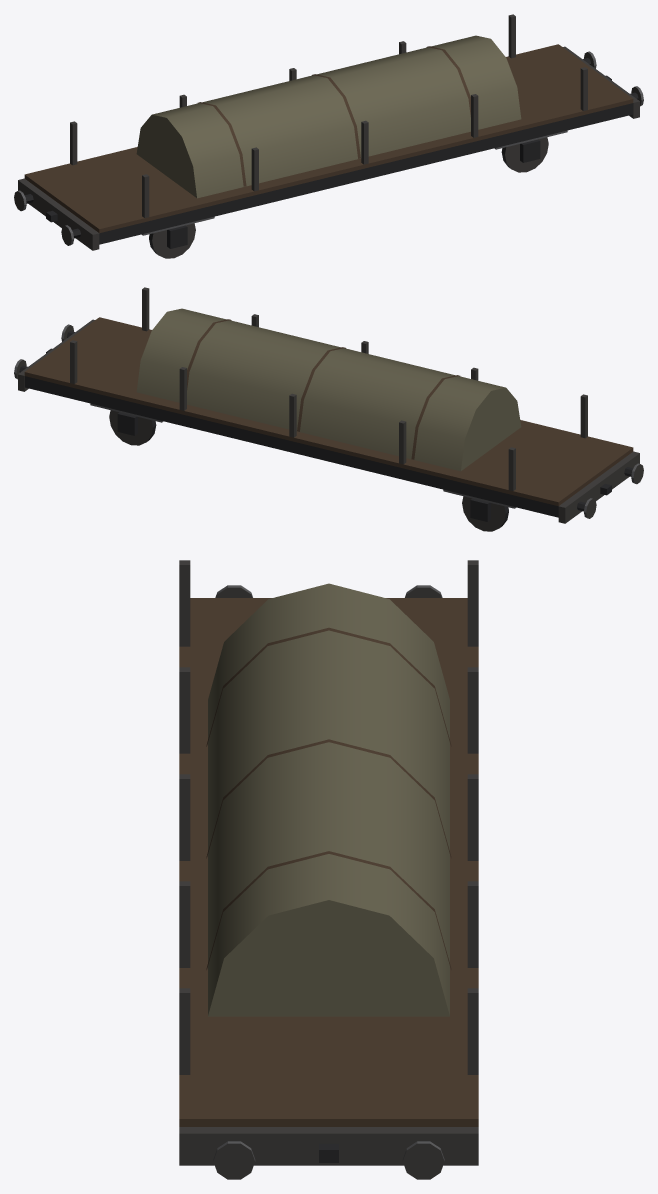
File: wagon_flat.glb
3 views of the same model, one above another, from view 1: azimuth 30°, elevation 25°; view 2: azimuth 150°, elevation 25°; view 3: azimuth 270°, elevation 25° (orthographic). The views are drawn at different scales.
Visible parts, largest first — view 1: wagon_flat_LOD0; view 2: wagon_flat_LOD0; view 3: wagon_flat_LOD0.
Part boxes in pixels (bbox=[...]): wagon_flat_LOD0: bbox=[14, 14, 643, 258]; wagon_flat_LOD0: bbox=[14, 287, 643, 531]; wagon_flat_LOD0: bbox=[179, 560, 478, 1179].
Size of what is drawn, in the model's own units: 12 by 2.44 by 2.72.
1 material, 1 textured.
